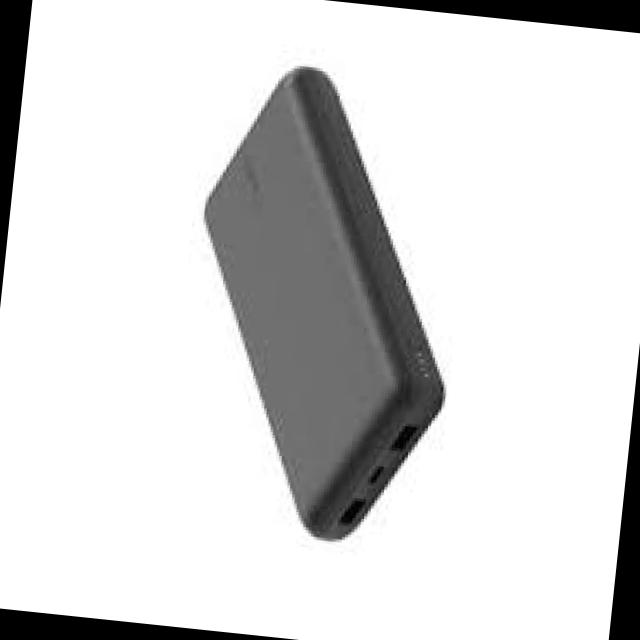power_bank: (157, 47, 482, 555)
